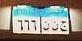6: (30, 19, 38, 31), (17, 19, 23, 30), (24, 19, 29, 31)
jeem: (59, 21, 68, 31)
noon: (52, 21, 58, 32), (43, 21, 50, 30)
